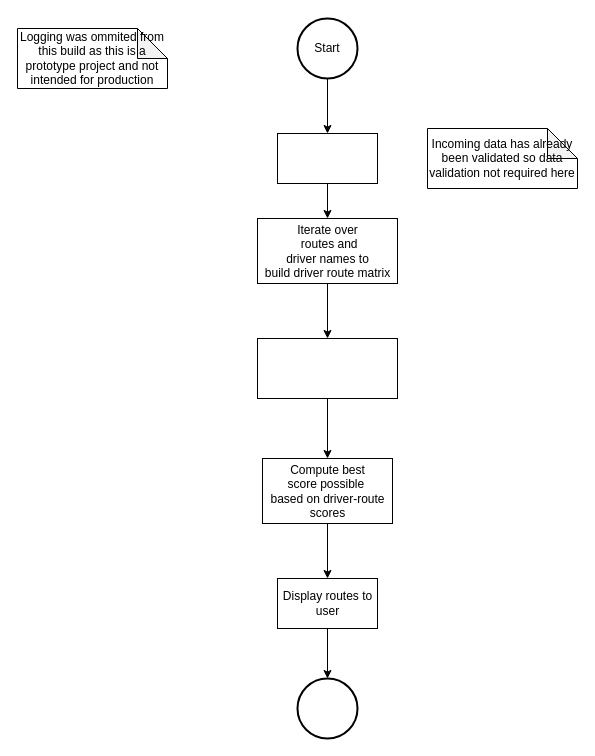
This 595x756 diagram has some shape labels left out. The shapes that lost their labels are listed below. From the top down, each one's box as (x1, y1, x2, y2) in pixels, then its label:
(276, 132, 378, 184): Import Driver and Destination data
(256, 338, 398, 398): Calculate Driver Route score from secret algorithm and store values in matrix
(296, 677, 358, 739): End
